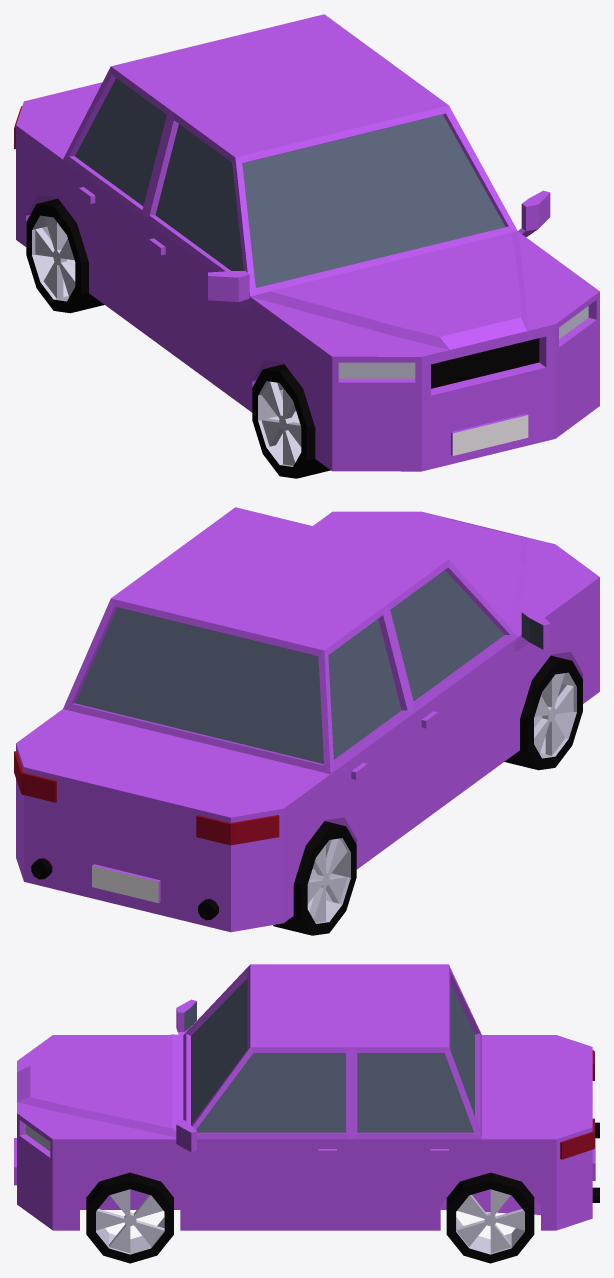
File: corrolla.glb
3 views of the same model, one above another, from view 1: azimuth 30°, elevation 25°; view 2: azimuth 150°, elevation 25°; view 3: azimuth 270°, elevation 25° (orthographic). The views are drawn at different scales.
Visible parts, largest first — view 1: Sedan, Sedan wheel front right, Sedan wheel rear right; view 2: Sedan, Sedan wheel rear right, Sedan wheel front right; view 3: Sedan, Sedan wheel rear left, Sedan wheel front left.
Boxes of the visible parts, bbox=[...] form: Sedan: bbox=[14, 14, 599, 471]; Sedan wheel front right: bbox=[252, 364, 330, 478]; Sedan wheel rear right: bbox=[26, 198, 104, 313]; Sedan: bbox=[14, 507, 599, 932]; Sedan wheel rear right: bbox=[273, 821, 356, 935]; Sedan wheel front right: bbox=[504, 655, 582, 770]; Sedan: bbox=[14, 964, 599, 1230]; Sedan wheel rear left: bbox=[446, 1172, 534, 1263]; Sedan wheel front left: bbox=[86, 1172, 173, 1263].
Bounding box in the file's own units: 2.81 × 2.01 × 5.23.
